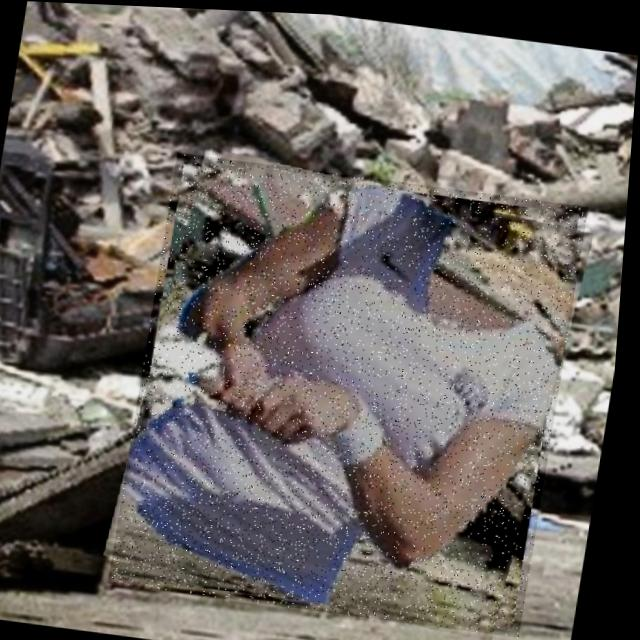Person in Rubble: (114, 149, 593, 633)
